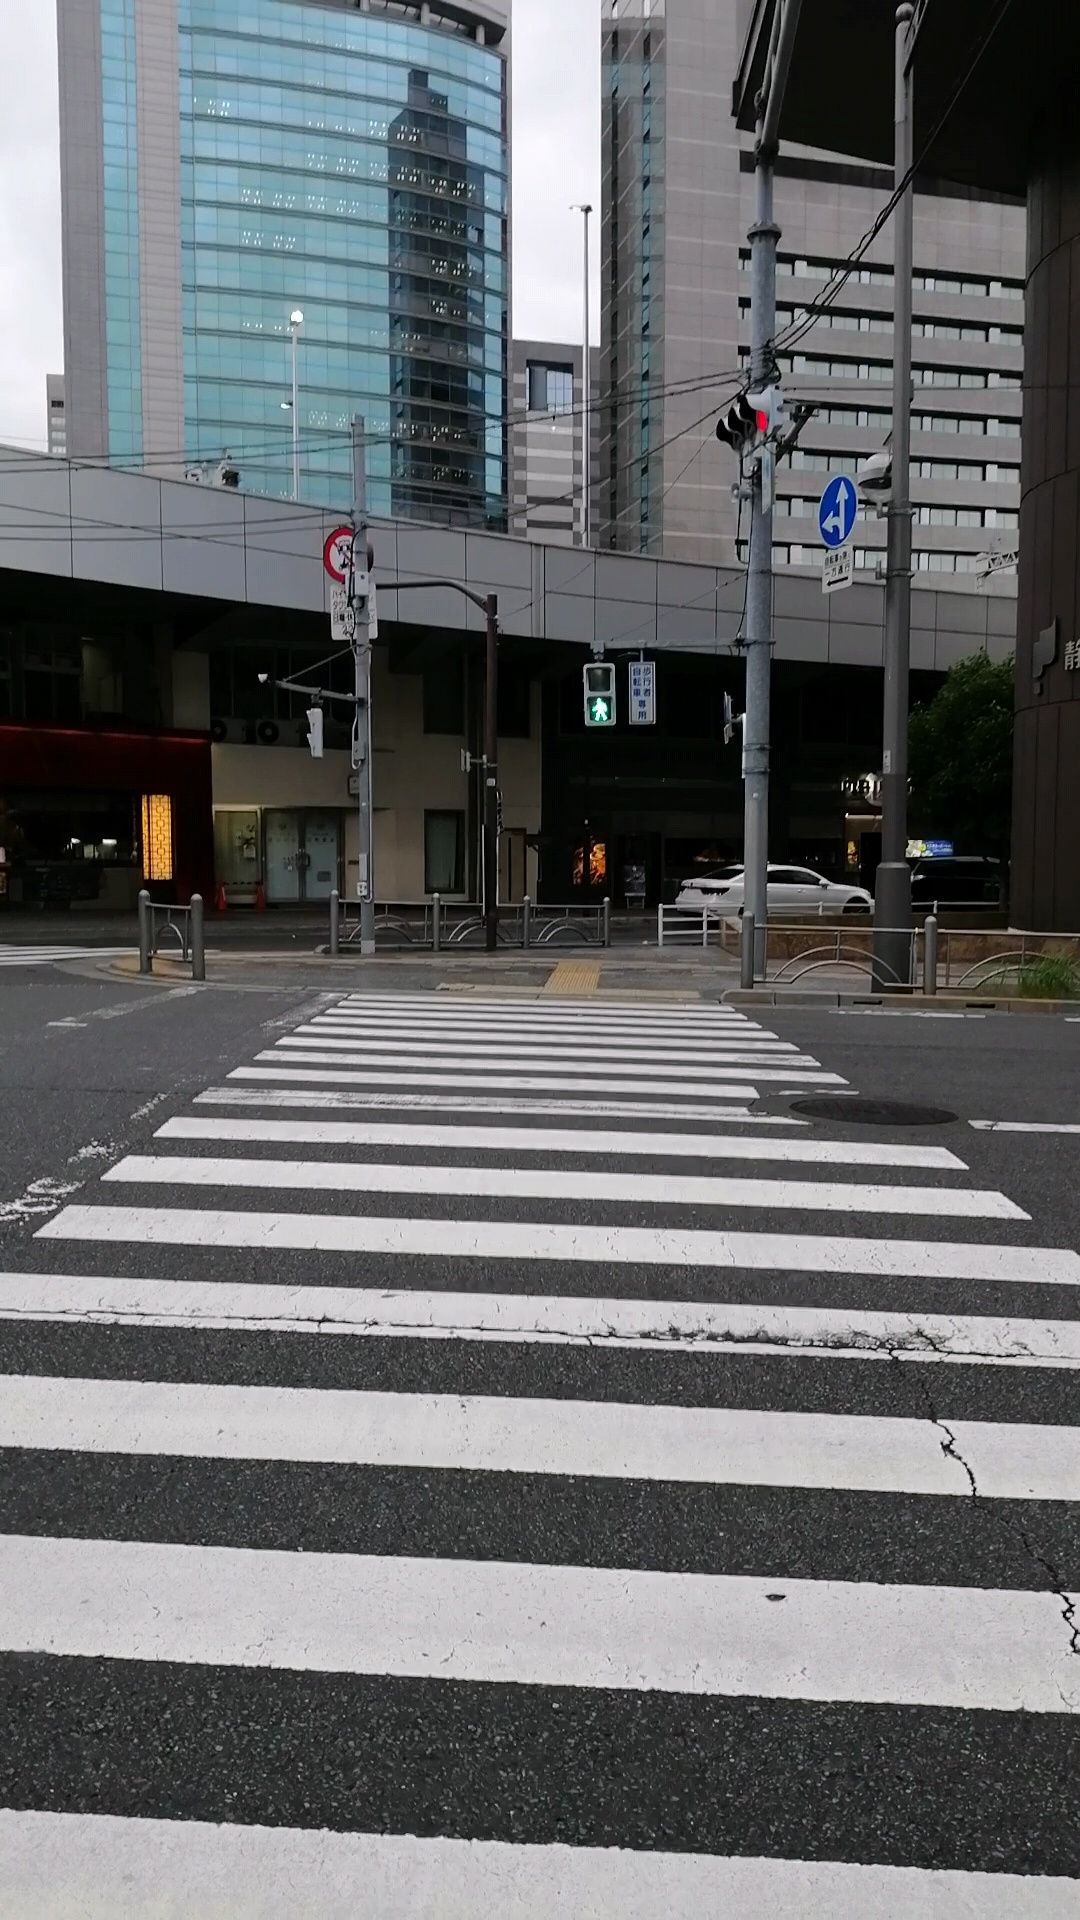green: (582, 662, 617, 729)
